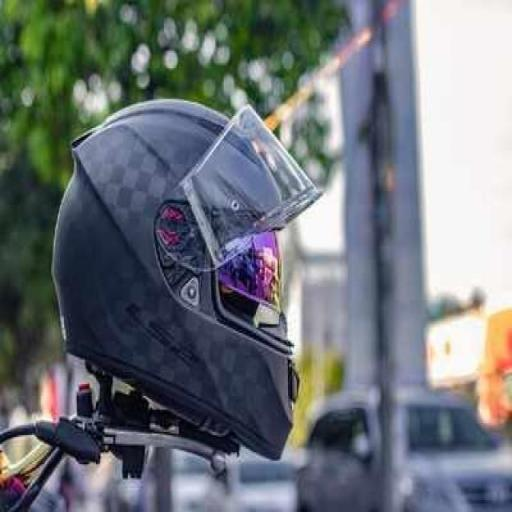Helmet: (53, 100, 317, 458)
